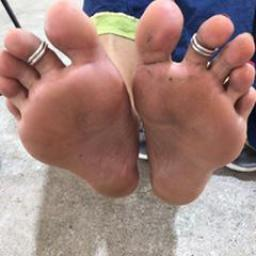Plantar View -Both Feet-: (1, 1, 255, 219)
